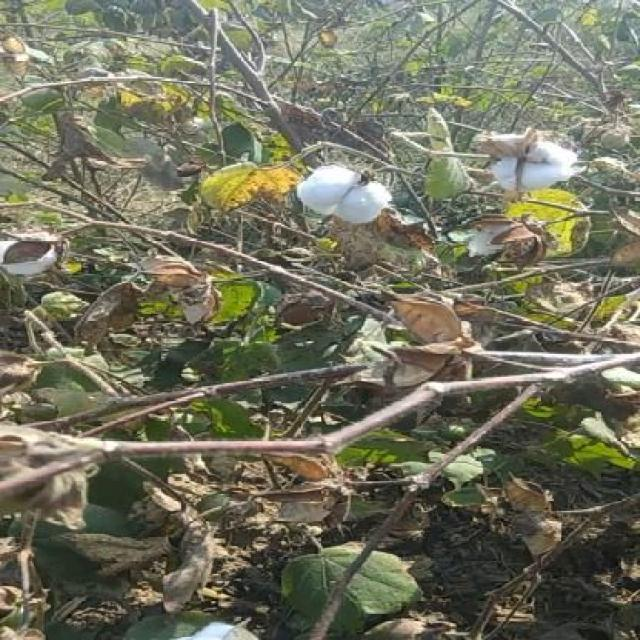cotton_ready: (274, 160, 415, 240), (462, 121, 578, 208)
